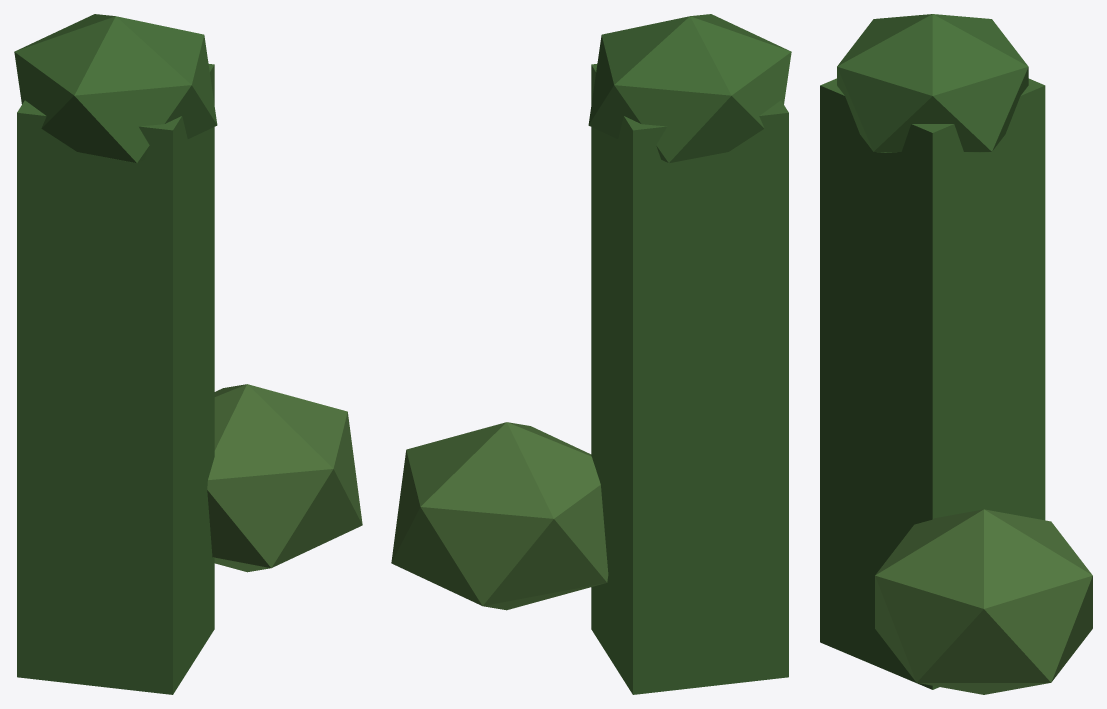
Rendered from bg_desert_cactus_3_lod2.glb.
The picture shows the model from 3 angles, left to right: view 1: azimuth 30°, elevation 25°; view 2: azimuth 150°, elevation 25°; view 3: azimuth 270°, elevation 25°; orthographic projection.
Parts seen in each view (by area): view 1: body; view 2: body; view 3: body.
Part boxes in pixels (x1,y1,x2,y2): body: [14, 14, 362, 694]; body: [391, 14, 791, 694]; body: [820, 14, 1092, 694].
Bounding box in the file's own units: 0.7936 × 1.35 × 0.5327.
